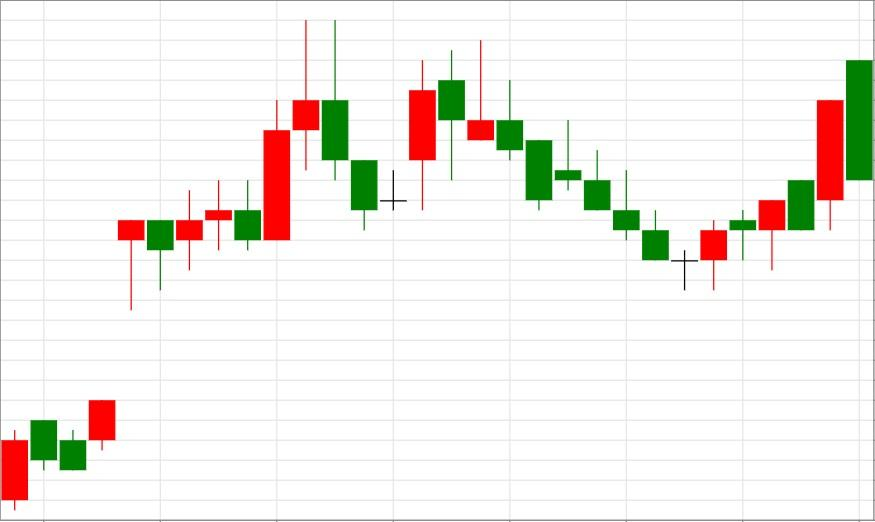bearish_engulfing_fall: (59, 19, 349, 471)
morning_star_rise: (437, 39, 728, 292)
